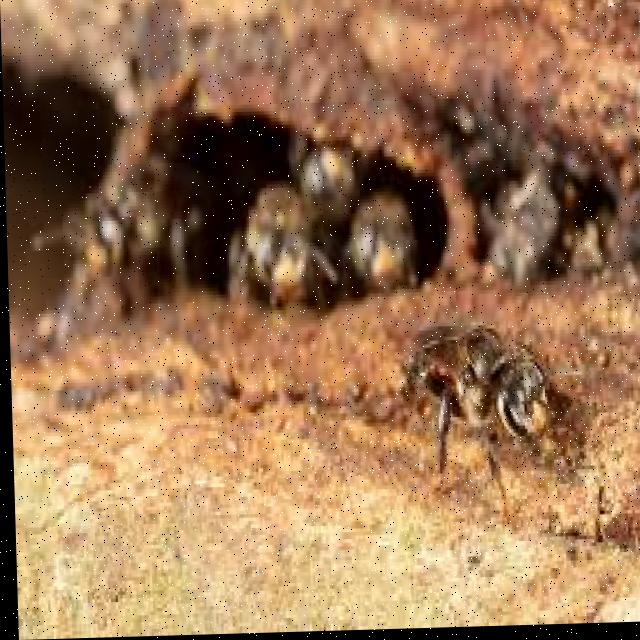Meliponula: (35, 119, 225, 321), (391, 319, 570, 490), (213, 156, 335, 322), (280, 94, 368, 244), (356, 174, 421, 290)
